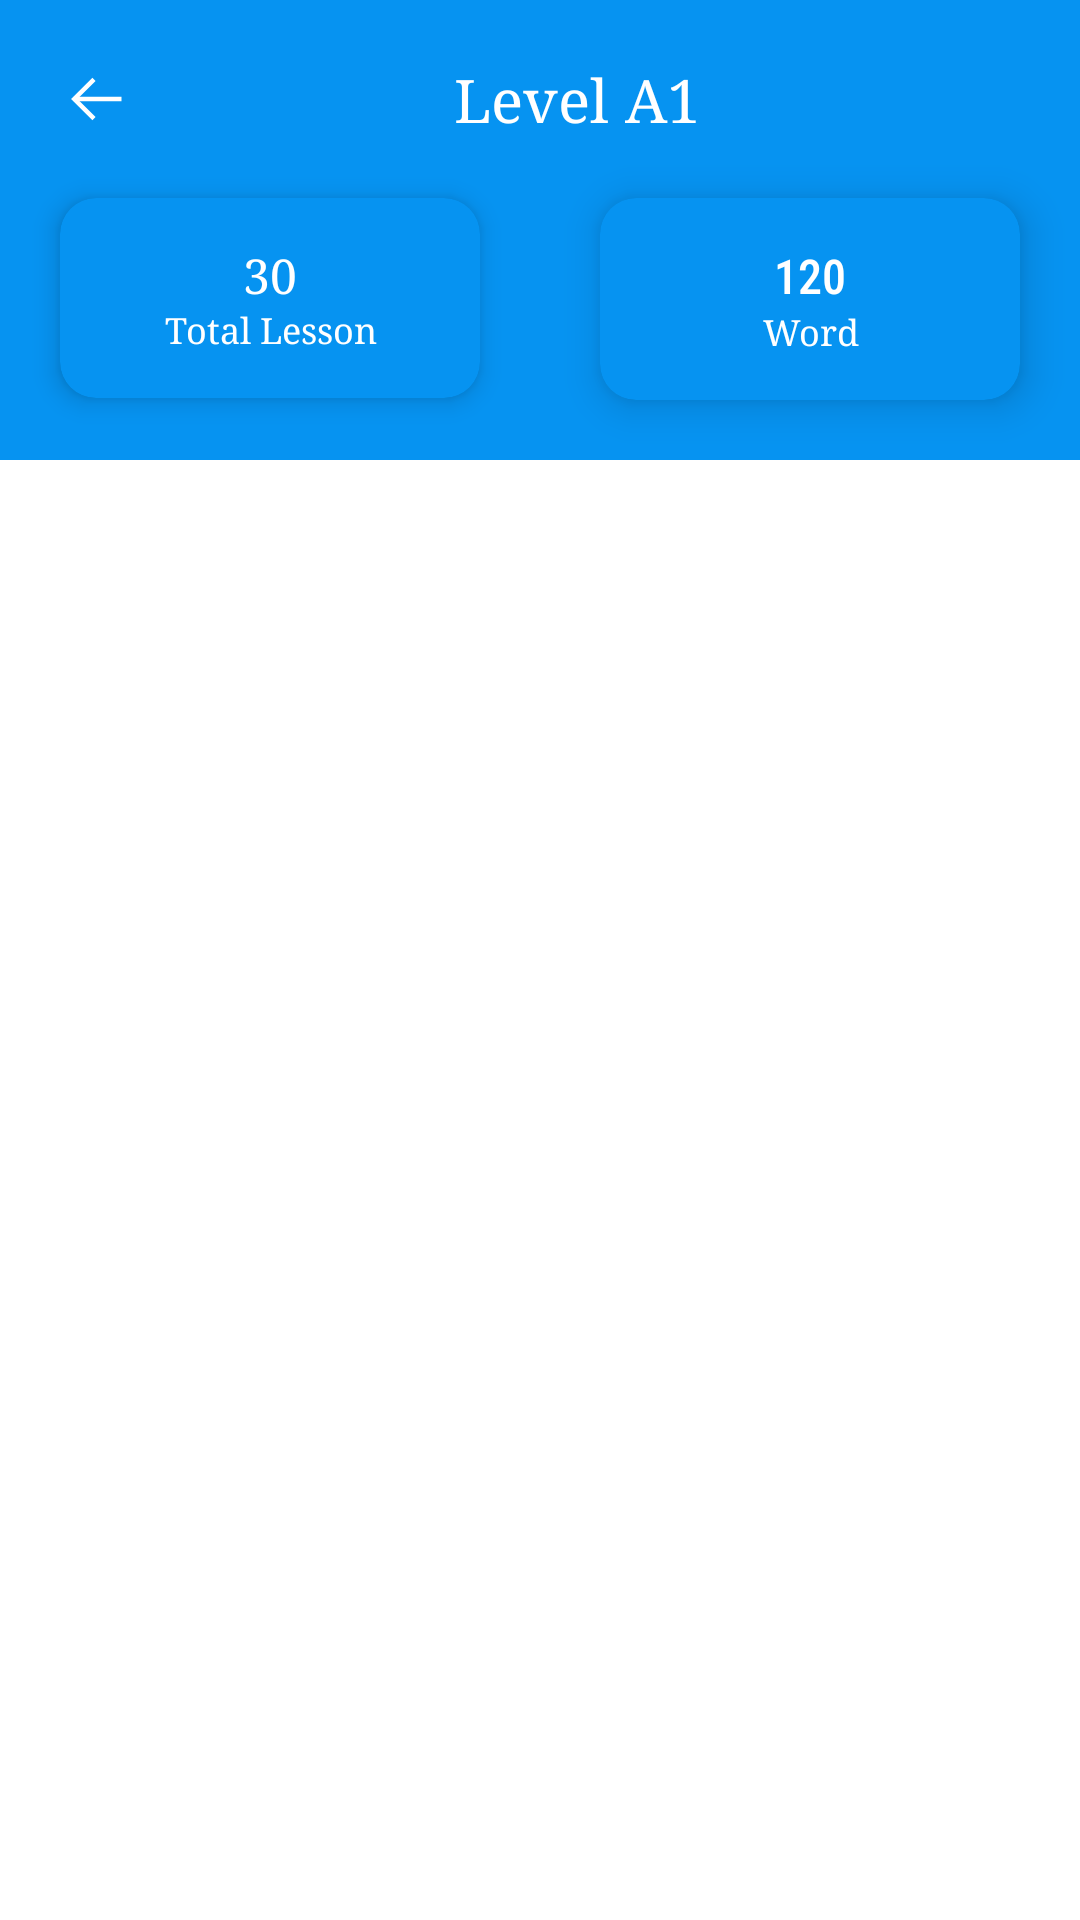

Where to tap for icons on this 1080x1920 app screen, as [x,y]:
arrow left: [96,99]
